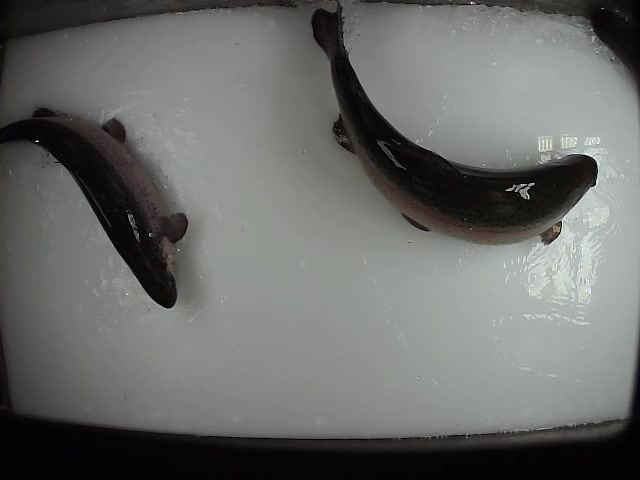fish: (310, 3, 602, 248), (1, 107, 190, 310)
